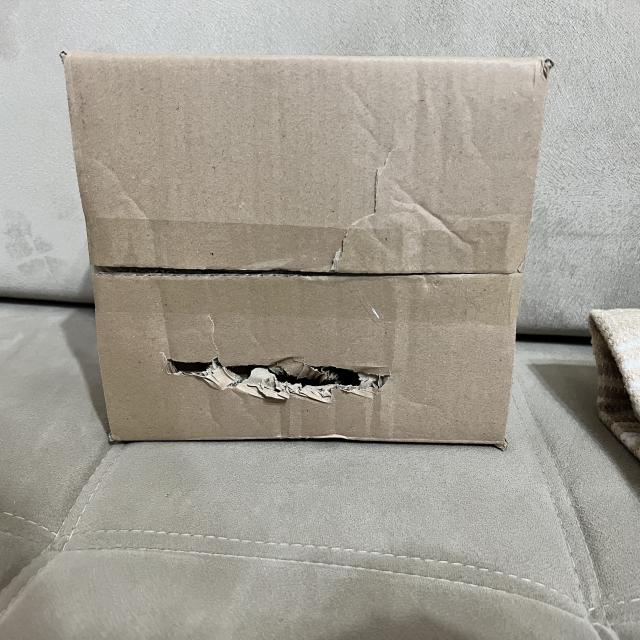damaged: (60, 49, 556, 455), (152, 329, 400, 416), (319, 140, 398, 275)
